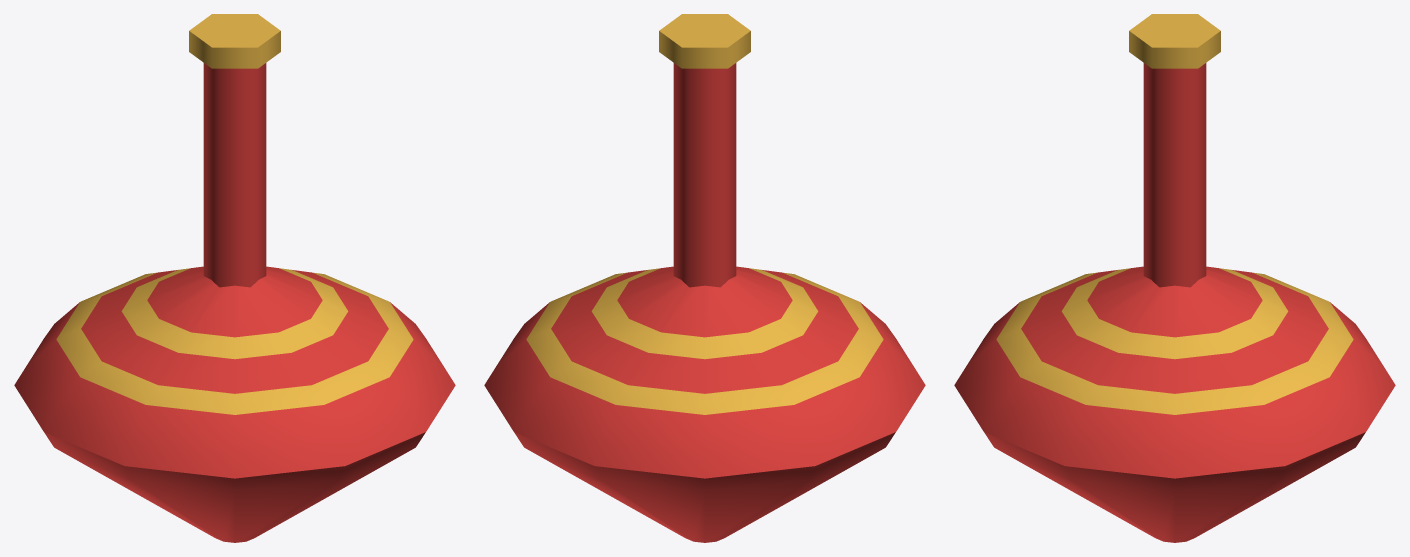
Rendered from Spinner_01.fbx.
3 renders of one model, left to right at view 1: azimuth 30°, elevation 25°; view 2: azimuth 150°, elevation 25°; view 3: azimuth 270°, elevation 25°, orthographic.
Parts seen in each view (by area): view 1: Spinner_01; view 2: Spinner_01; view 3: Spinner_01.
Part boxes in pixels (x1,y1,x2,y2): Spinner_01: (14, 14, 455, 542); Spinner_01: (484, 14, 925, 542); Spinner_01: (954, 14, 1395, 542).
Bounding box in the file's own units: 0.1381 × 0.1755 × 0.1381.
